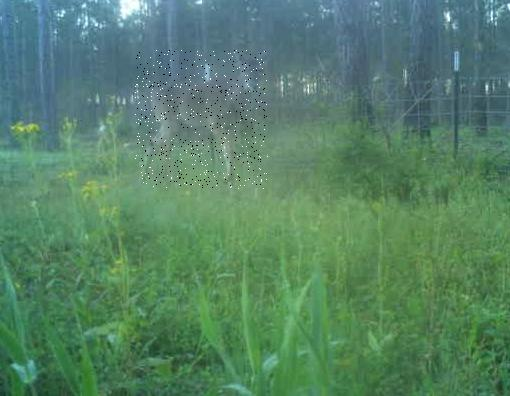Deer: (134, 51, 267, 190)
